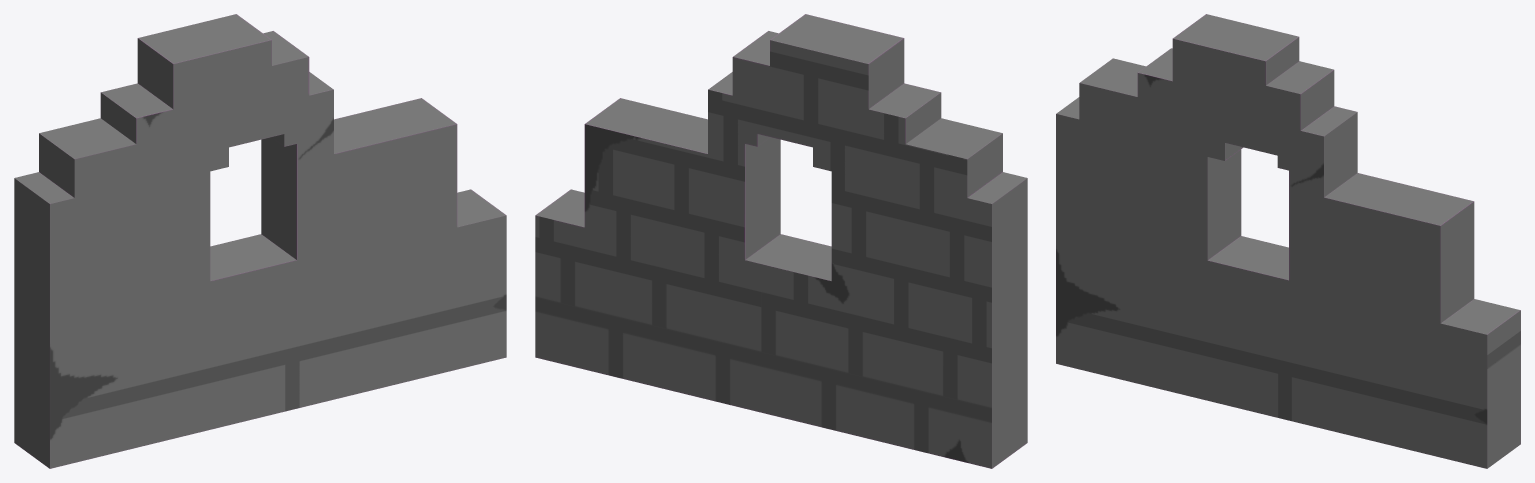
File: Wall.fbx
3 renders of one model, left to right at view 1: azimuth 30°, elevation 25°; view 2: azimuth 150°, elevation 25°; view 3: azimuth 330°, elevation 25°, orthographic. The views are drawn at different scales.
Visible parts, largest first — view 1: 평면; view 2: 평면; view 3: 평면.
Part boxes in pixels (<box>): 평면: <box>14,14,506,468</box>; 평면: <box>535,14,1027,468</box>; 평면: <box>1056,14,1520,468</box>.
Bounding box in the file's own units: 370 × 290 × 50.
1 material, 1 textured.
